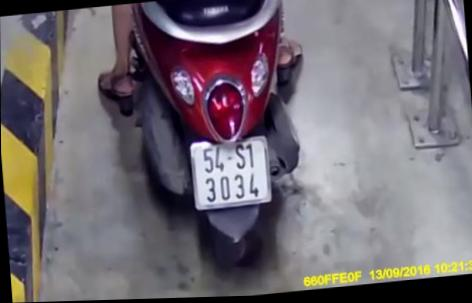LP: (187, 134, 273, 214)
